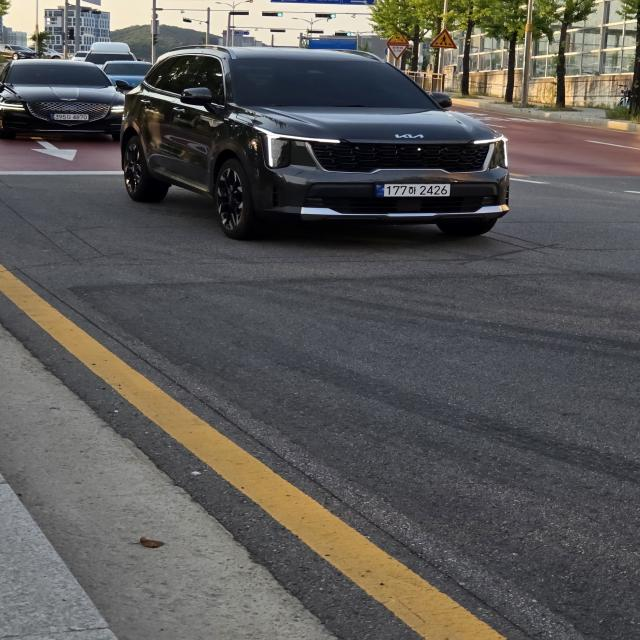car: (122, 47, 527, 261), (0, 52, 121, 148), (98, 58, 166, 100)
